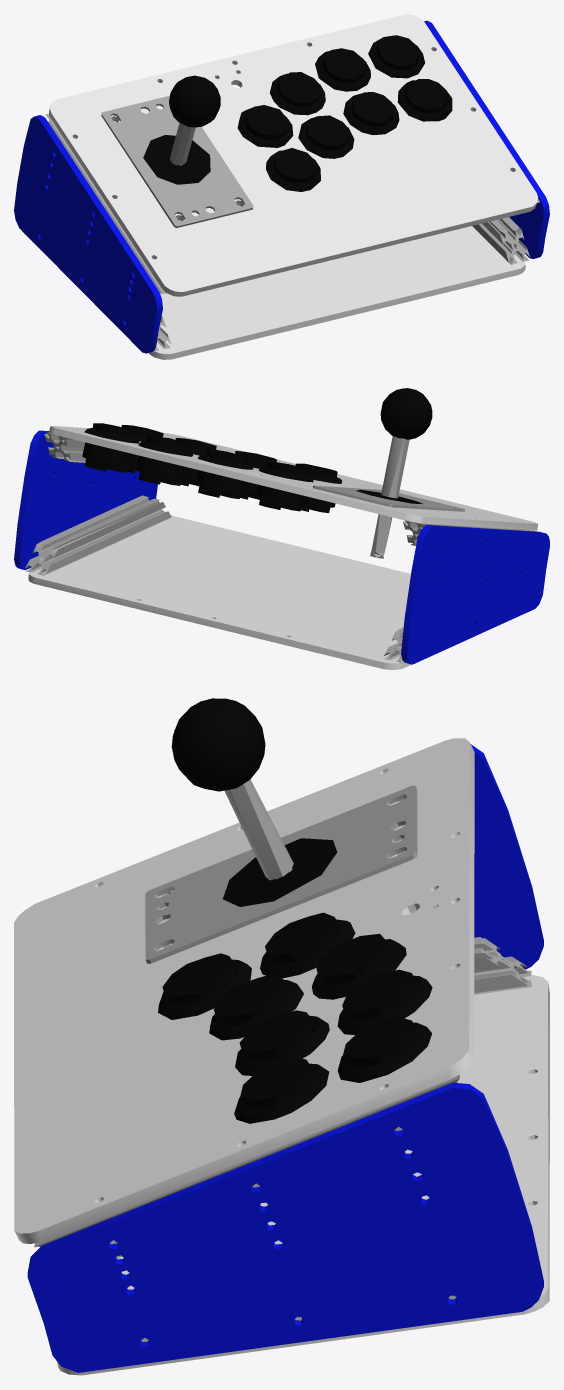
File: arcade.glb
3 views of the same model, one above another, from view 1: azimuth 30°, elevation 25°; view 2: azimuth 150°, elevation 25°; view 3: azimuth 270°, elevation 25° (orthographic). The views are drawn at different scales.
Visible parts, largest first — view 1: arcade fs.023, arcade fs.026, arcade fs.027, arcade fs.005, arcade fs.002, arcade fs.011, arcade fs.006; view 2: arcade fs.023, arcade fs.026, arcade fs.027, arcade fs.002, arcade fs.006, arcade fs.005; view 3: arcade fs.023, arcade fs.026, arcade fs.027, arcade fs.005, arcade fs.002, arcade fs.006, arcade fs.011.
Boxes of the visible parts, x1,y1,x2,y2 form: arcade fs.023: [49, 14, 538, 359]; arcade fs.026: [14, 20, 549, 353]; arcade fs.027: [143, 35, 452, 191]; arcade fs.005: [101, 95, 253, 227]; arcade fs.002: [45, 113, 540, 352]; arcade fs.011: [351, 92, 394, 126]; arcade fs.006: [170, 122, 195, 165]; arcade fs.023: [28, 426, 537, 669]; arcade fs.026: [14, 430, 549, 664]; arcade fs.027: [82, 388, 432, 512]; arcade fs.002: [25, 432, 539, 663]; arcade fs.006: [370, 436, 409, 558]; arcade fs.005: [313, 485, 465, 511]; arcade fs.023: [14, 738, 549, 1375]; arcade fs.026: [27, 744, 543, 1372]; arcade fs.027: [158, 698, 432, 1123]; arcade fs.005: [145, 785, 417, 963]; arcade fs.002: [34, 937, 531, 1341]; arcade fs.006: [224, 779, 293, 880]; arcade fs.011: [239, 1010, 316, 1061].
Size of the model in its own units: 8.44 by 4.76 by 5.52.
